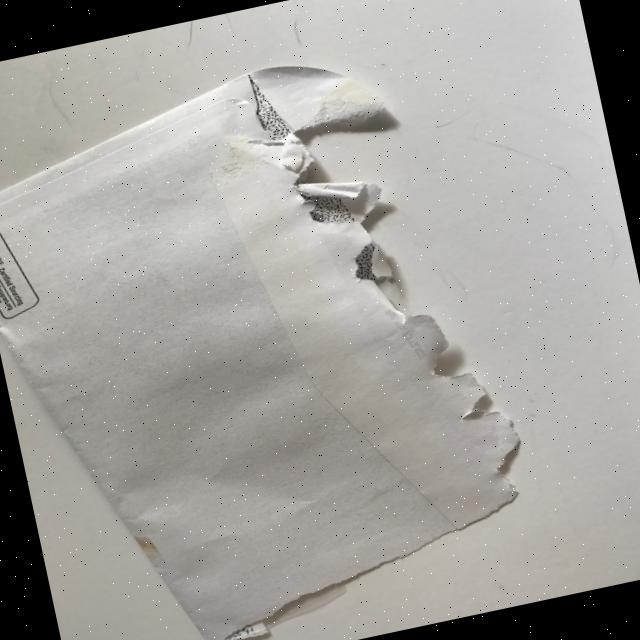paper: (0, 32, 549, 640)
